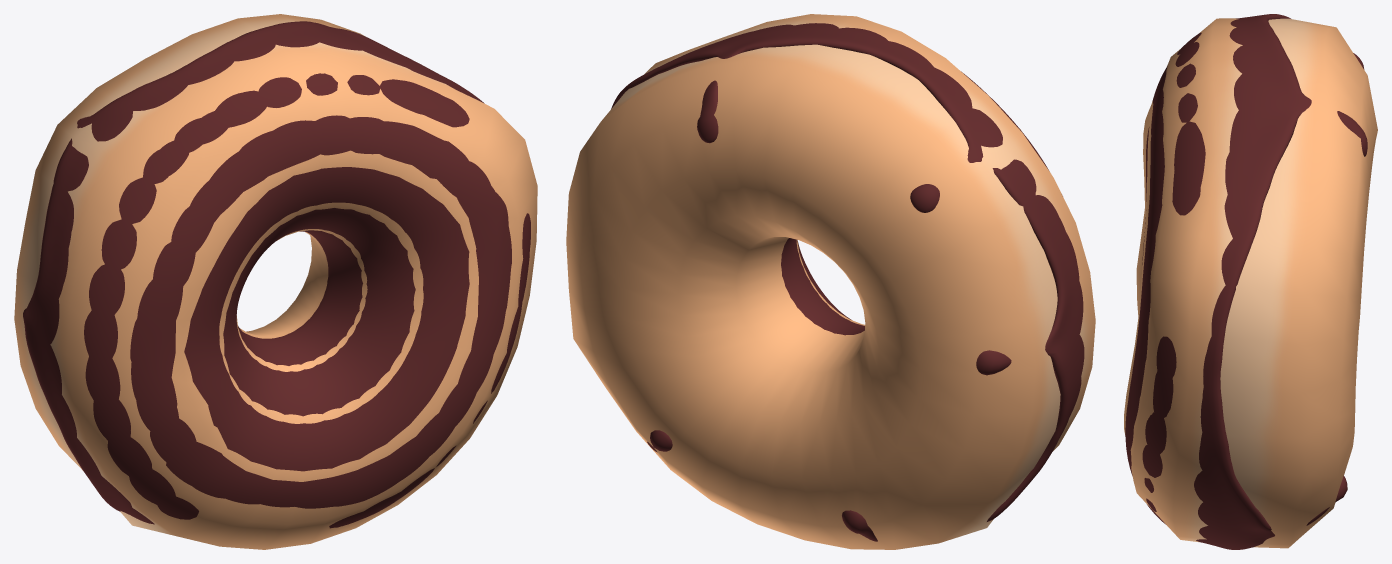
File: donut.gltf
3 renders of one model, left to right at view 1: azimuth 30°, elevation 25°; view 2: azimuth 150°, elevation 25°; view 3: azimuth 270°, elevation 25°, orthographic. The views are drawn at different scales.
Visible parts, largest first — view 1: Icing.006, Donut.006; view 2: Donut.006, Icing.006; view 3: Donut.006, Icing.006.
Boxes of the visible parts, x1,y1,x2,y2 form: Icing.006: (23,21,530,528); Donut.006: (14,14,537,549); Donut.006: (566,14,1095,549); Icing.006: (611,23,1084,541); Donut.006: (1124,18,1377,548); Icing.006: (1125,14,1367,549).
Size of the model in its own units: 24.81 by 24.64 by 11.8.
Materials: 2 (1 with a texture image).
